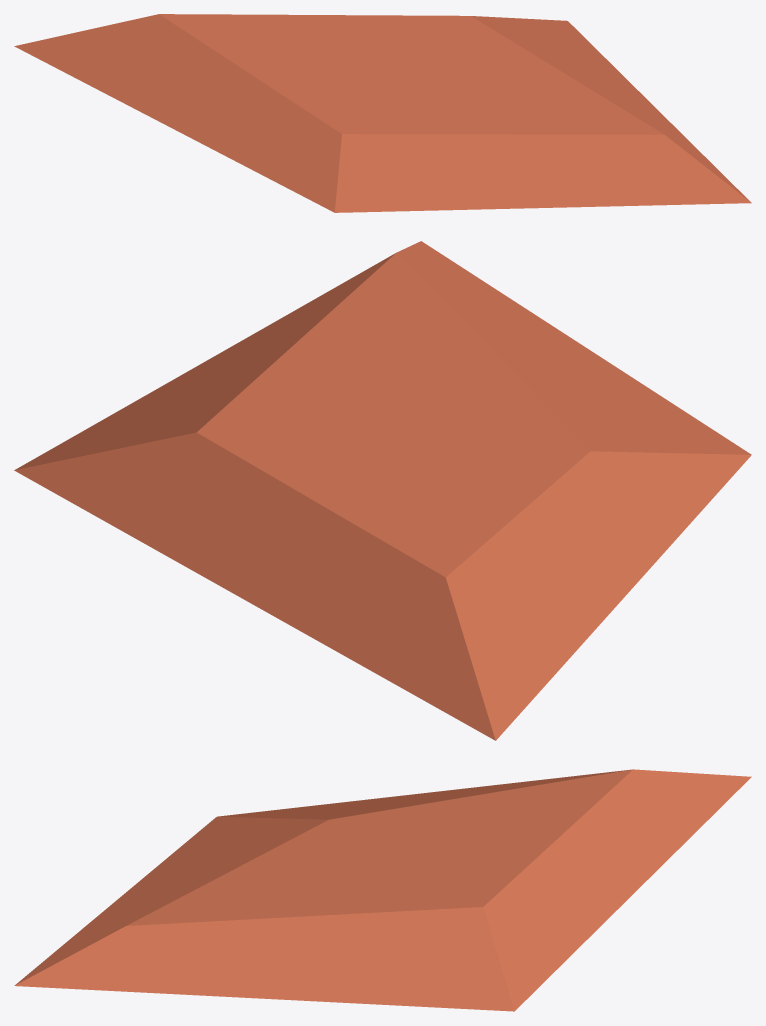
Rendered from Rock_Mesa_Small_9.fbx.
The picture shows the model from 3 angles, top to bottom: view 1: azimuth 30°, elevation 25°; view 2: azimuth 150°, elevation 25°; view 3: azimuth 270°, elevation 25°; orthographic projection. The views are drawn at different scales.
Parts seen in each view (by area): view 1: Rock; view 2: Rock; view 3: Rock.
Part boxes in pixels (left/top/right/bottom): Rock: left=14, top=14, right=751, bottom=212; Rock: left=14, top=241, right=751, bottom=740; Rock: left=14, top=769, right=751, bottom=1011.
Bounding box in the file's own units: 17.54 × 1.99 × 23.52.
